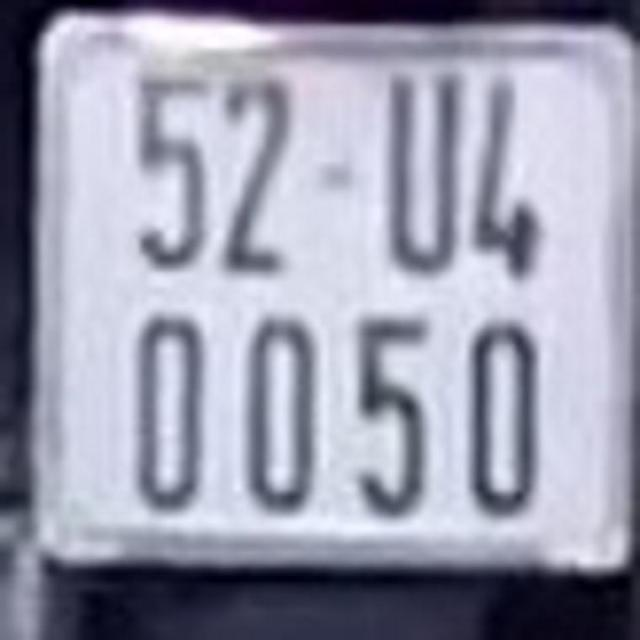0: (238, 308, 321, 510), (465, 309, 544, 516), (132, 304, 202, 507)
2: (219, 73, 290, 273)
4: (469, 65, 542, 274)
5: (350, 304, 434, 511), (131, 72, 207, 266)
U: (382, 65, 461, 274)
